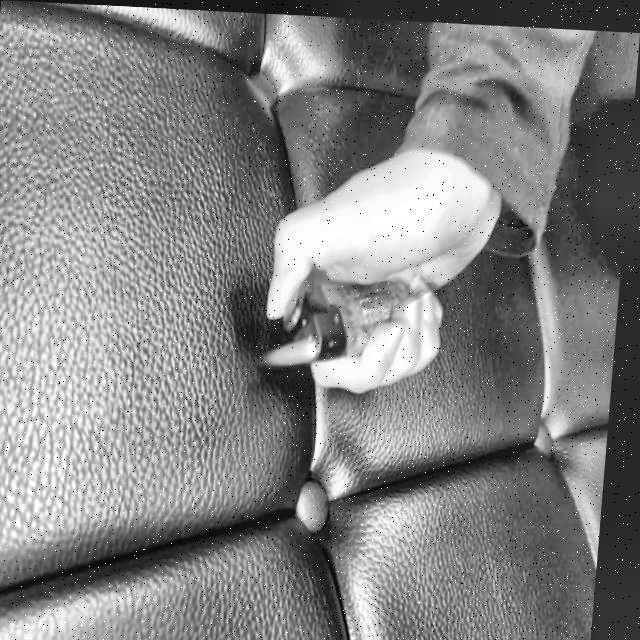Fire: (270, 328, 322, 364)
